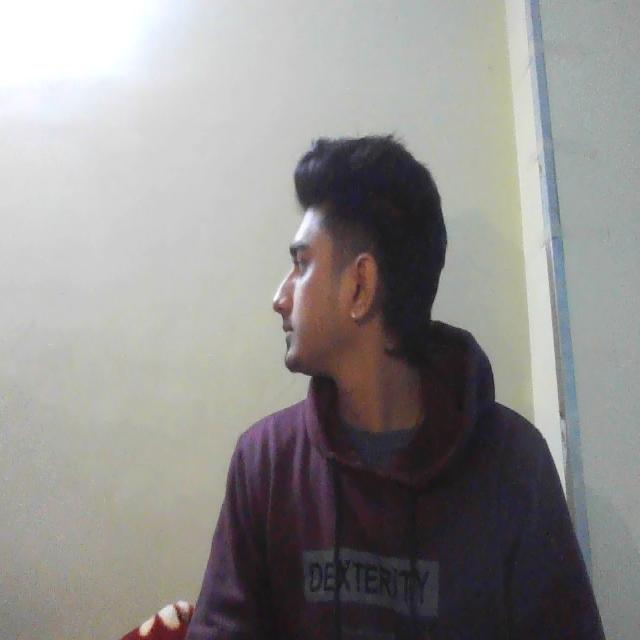real: (278, 164, 390, 376)
